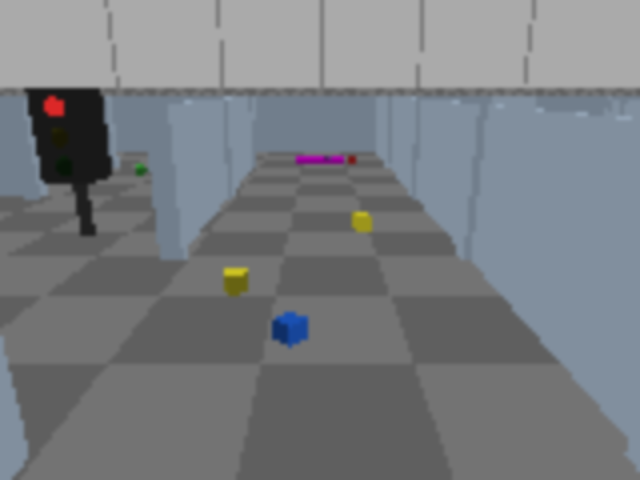goal_zone: (296, 155, 346, 162)
puck: (273, 311, 307, 347), (223, 267, 247, 295), (354, 213, 371, 232)
traffic_light: (23, 80, 120, 241)
